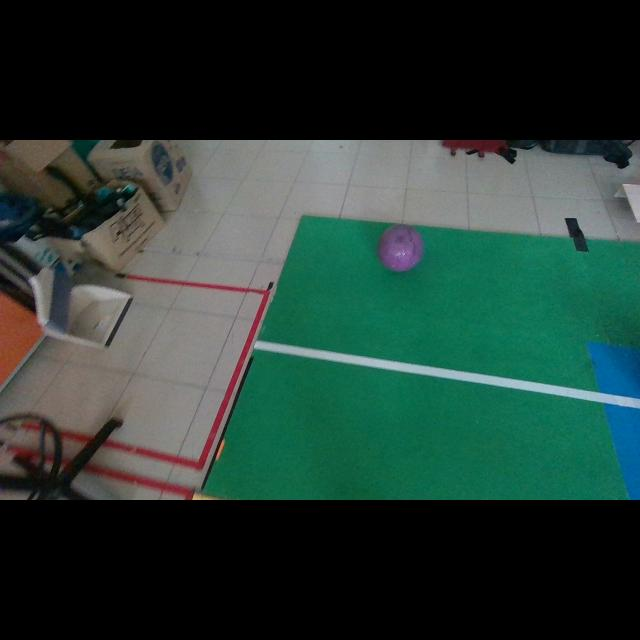P: (378, 224, 424, 271)
